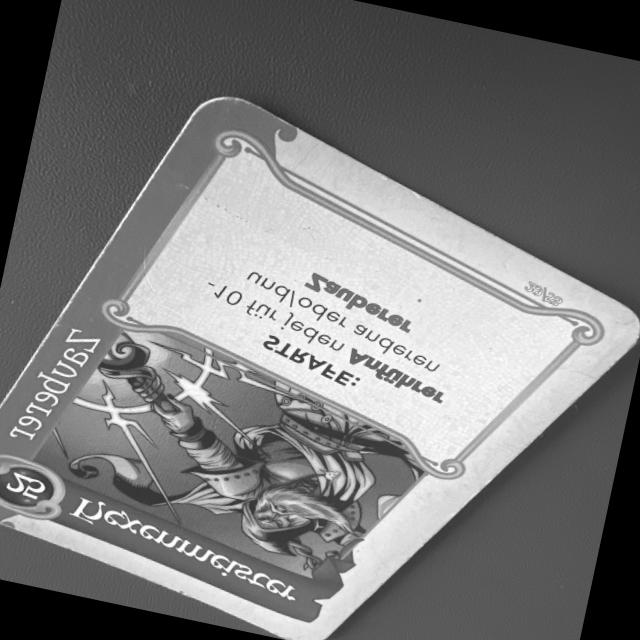Warlock Lord: (0, 93, 640, 640)
